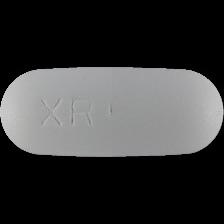64725-0284: (0, 0, 224, 224)
